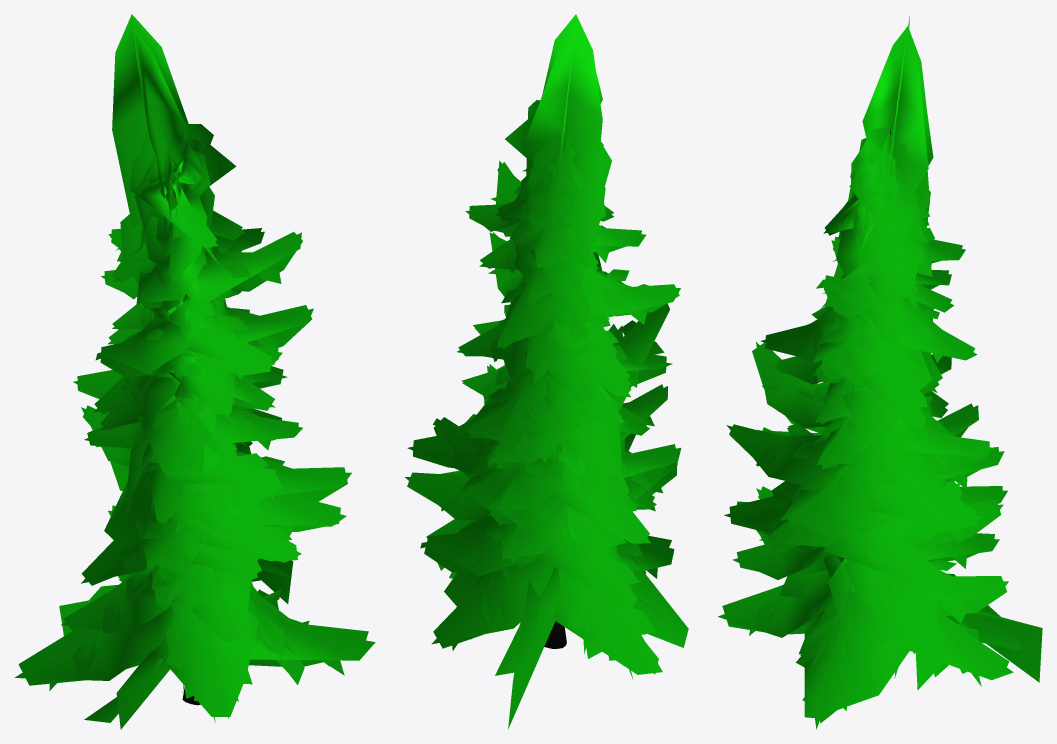
File: pine_004_1.FBX
3 renders of one model, left to right at view 1: azimuth 30°, elevation 25°; view 2: azimuth 150°, elevation 25°; view 3: azimuth 270°, elevation 25°, orthographic. The views are drawn at different scales.
Visible parts, largest first — view 1: pine_004_01_LOD0; view 2: pine_004_01_LOD0; view 3: pine_004_01_LOD0.
Part boxes in pixels (bbox=[...]): pine_004_01_LOD0: bbox=[14, 14, 375, 729]; pine_004_01_LOD0: bbox=[405, 14, 688, 729]; pine_004_01_LOD0: bbox=[718, 15, 1042, 729].
Size of what is drawn, in the model's own units: 395 by 881 by 389.
